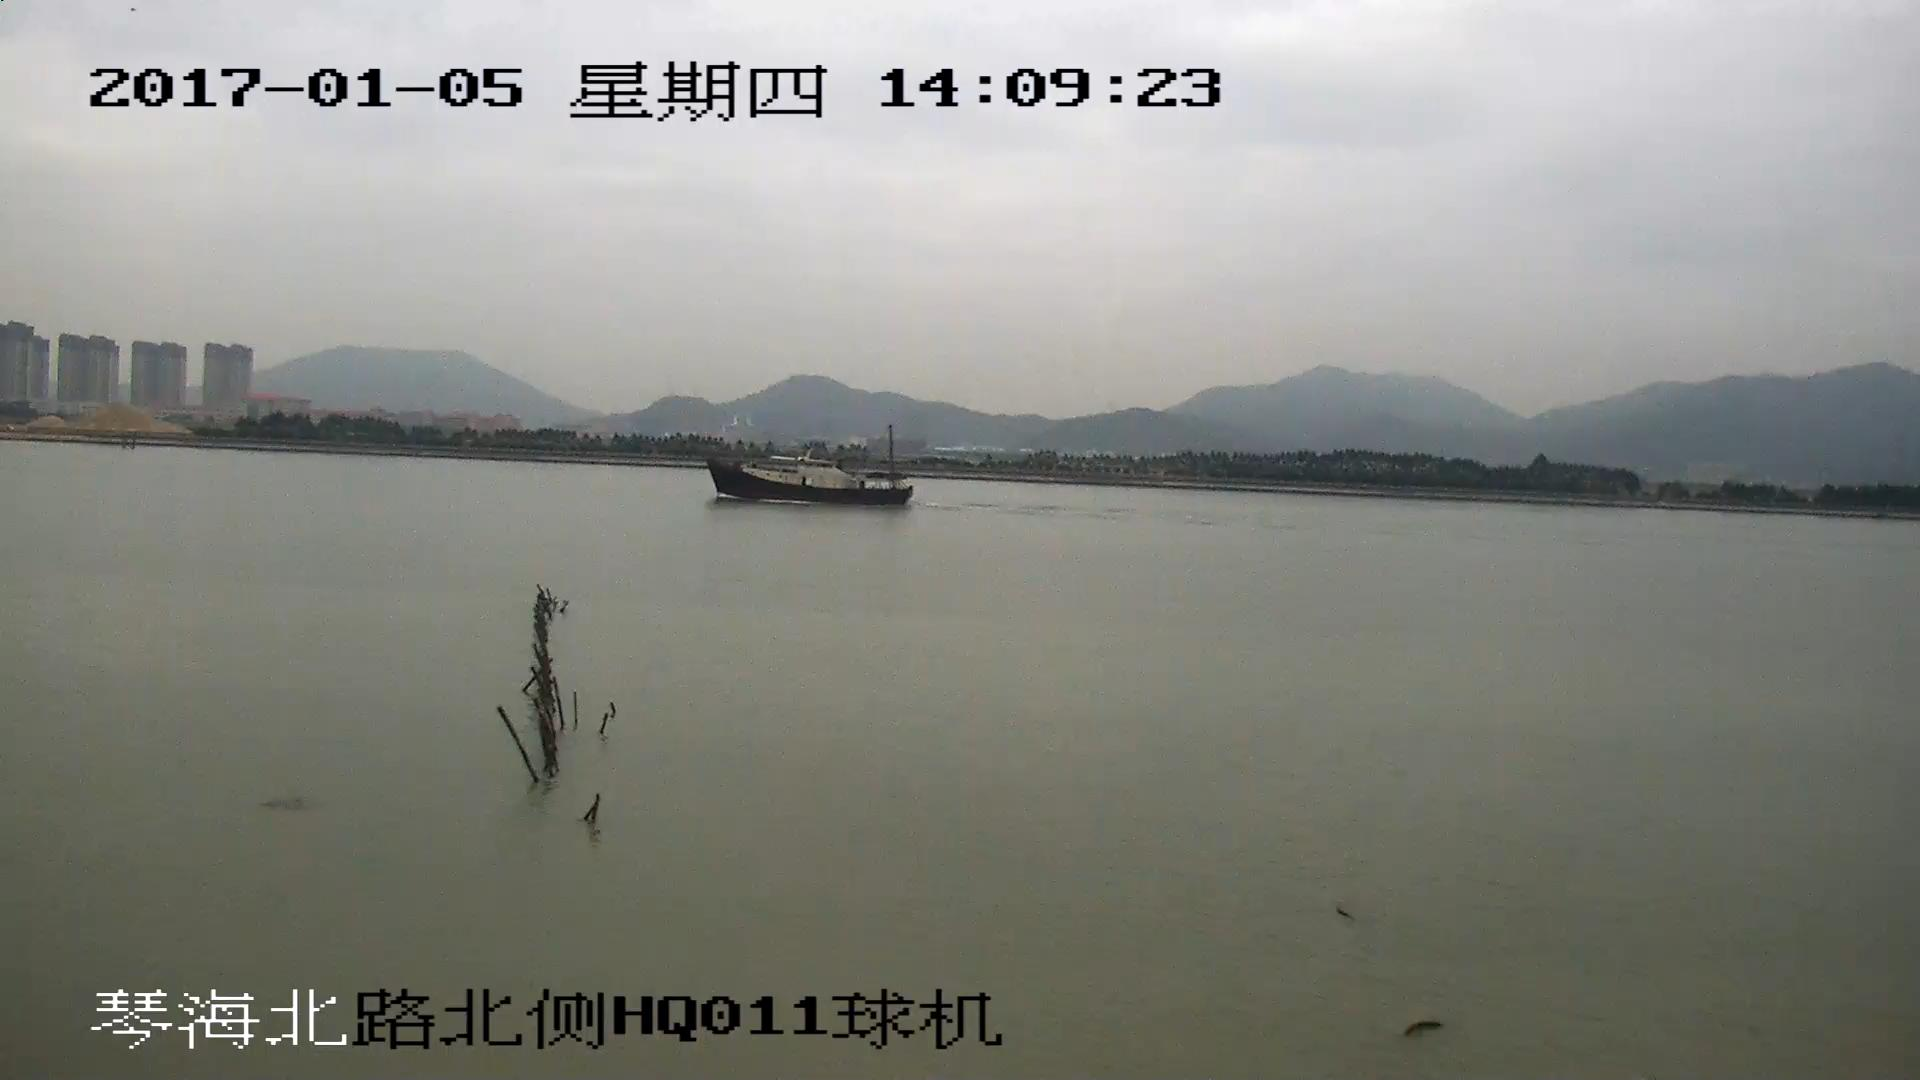fishing boat: (706, 416, 914, 508)
